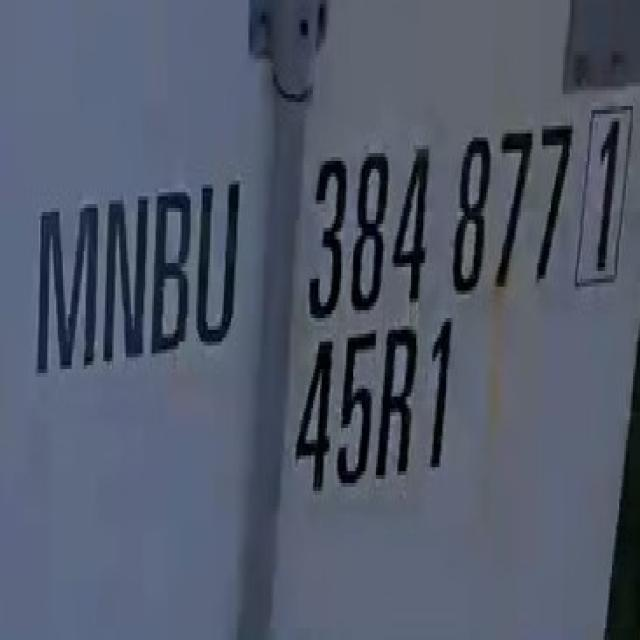dv: (577, 93, 637, 296)
owner: (26, 140, 251, 380)
serial: (296, 84, 573, 329)
size: (287, 317, 477, 507)
